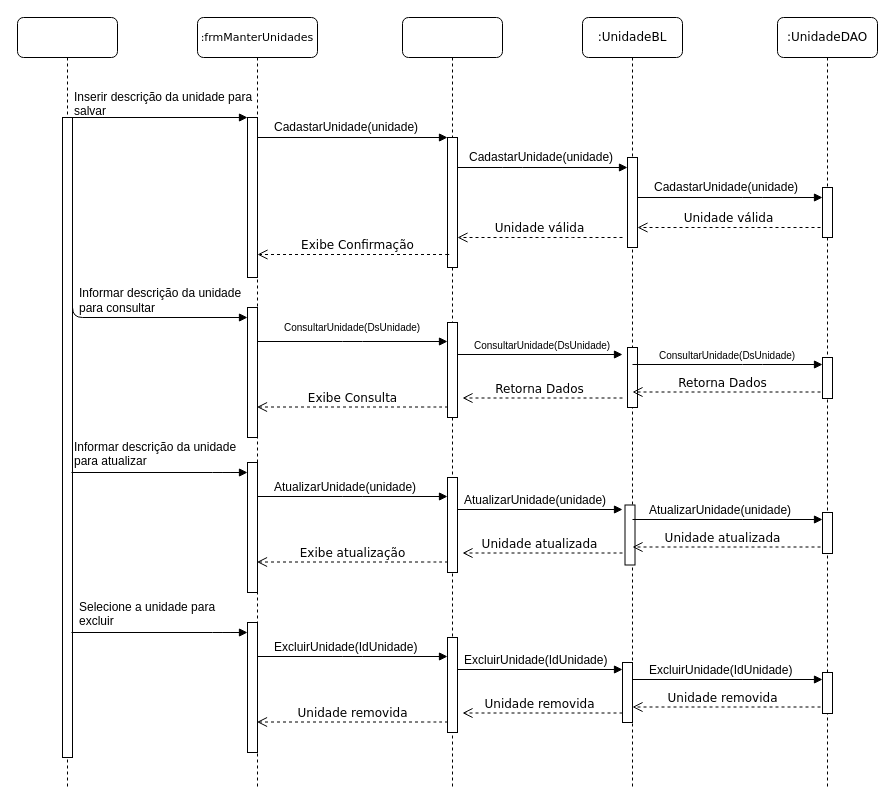
Some shapes in this 895 by 805 pixel diagram are drawn without their labels. Each missing label, with the box of its shape:
:Controller: (402, 16, 502, 788)
Usuário: (16, 16, 118, 788)
